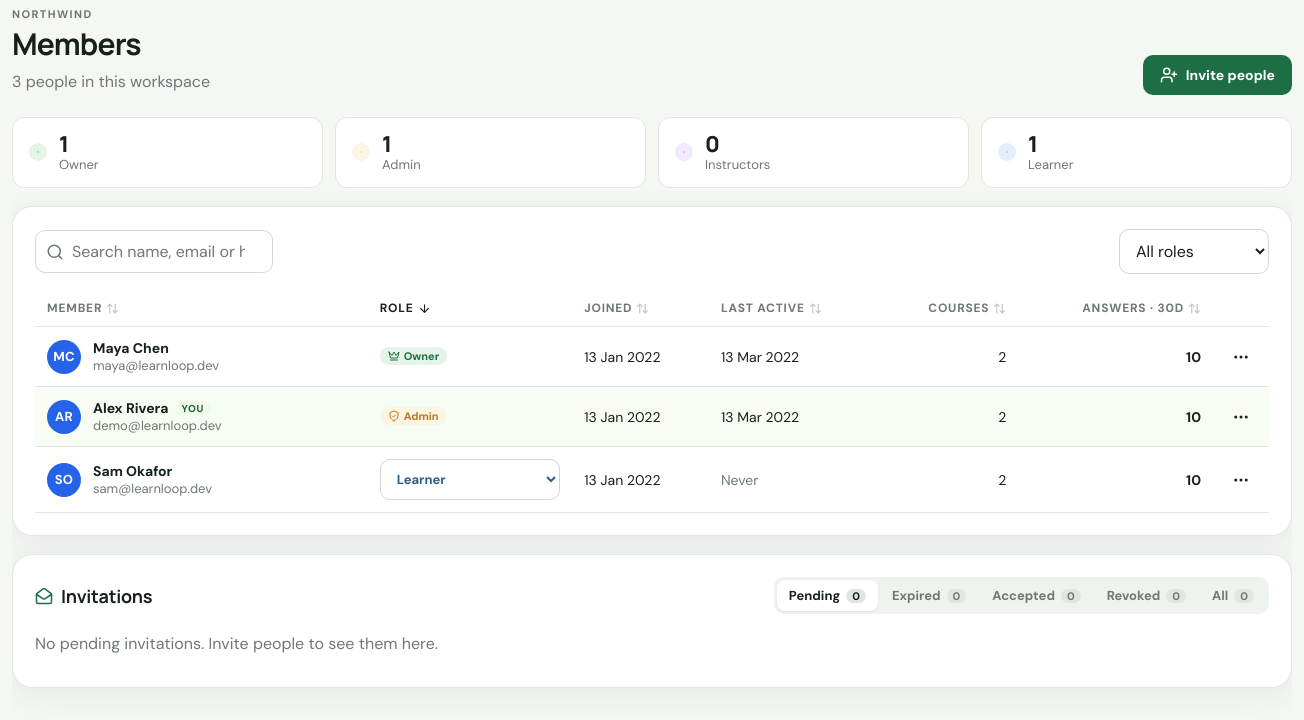
Test case: MembersPage › filters by search text and role tiles
Check: the text "Sam Okafor" is shown, box [93, 462, 172, 480]
Type "okafor" into the search field named "Search members".
click(154, 252); type("okafor")  # box [35, 230, 273, 273]
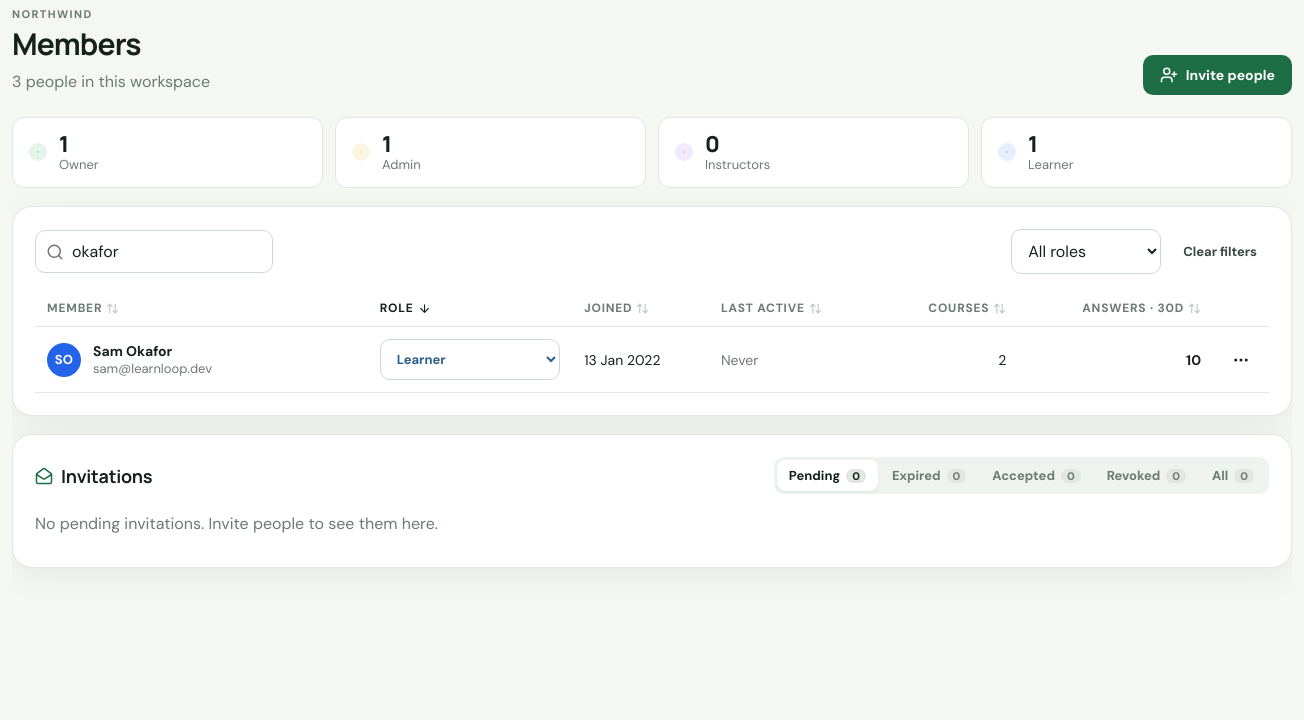
Check: the text "Maya Chen" is gone
Click the button "Clear filters".
click(1220, 252)  # box [1171, 235, 1269, 268]
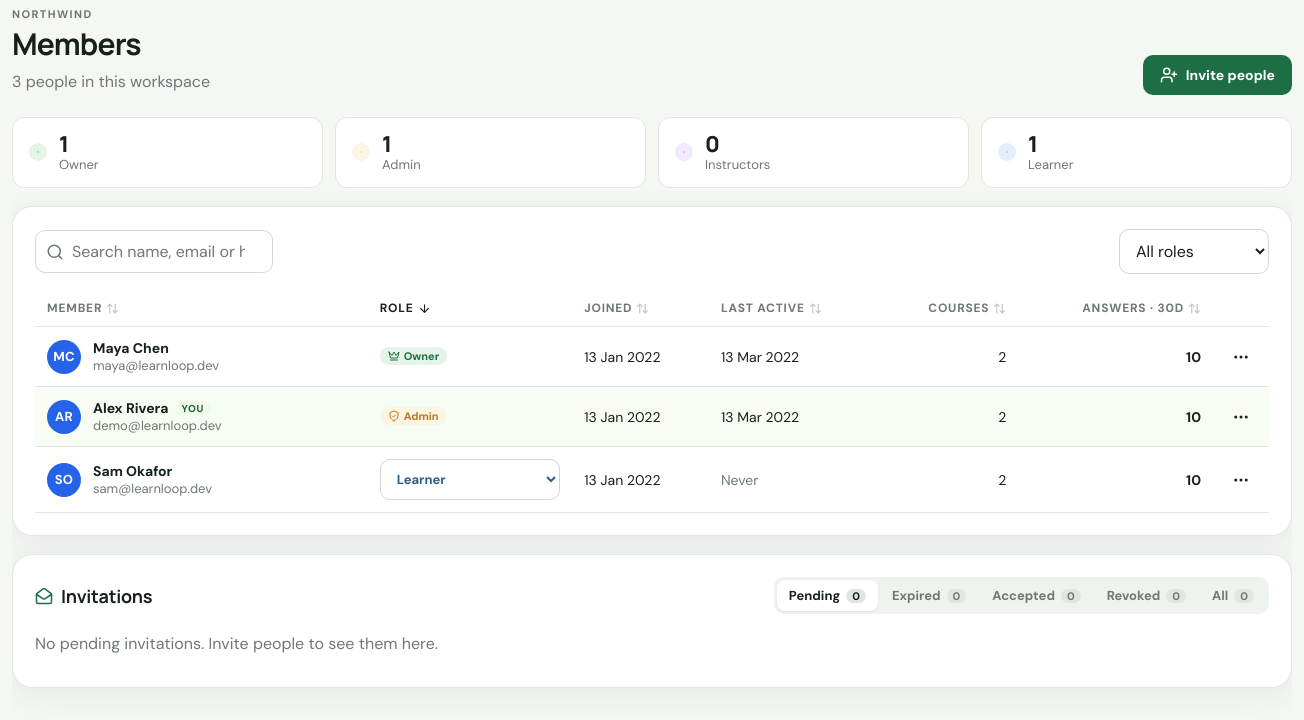
Click the button "1 Owner".
click(79, 165)  # box [12, 117, 323, 188]
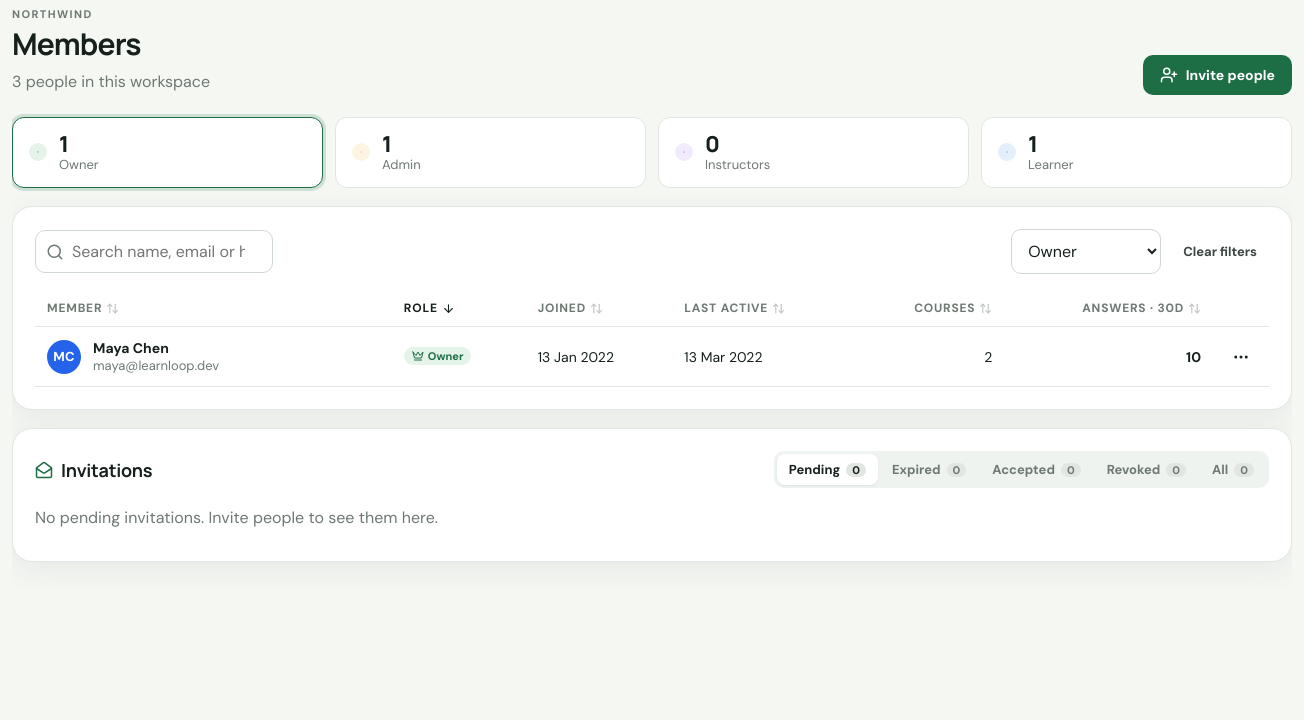
Check: the text "Maya Chen" is shown, box [93, 339, 169, 357]
Check: the text "Sam Okafor" is gone
